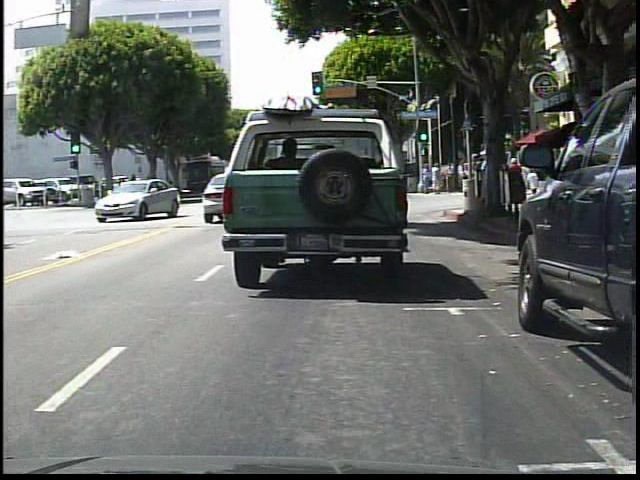person: (526, 164, 543, 205), (430, 160, 442, 194), (445, 161, 456, 193), (420, 164, 430, 194)
